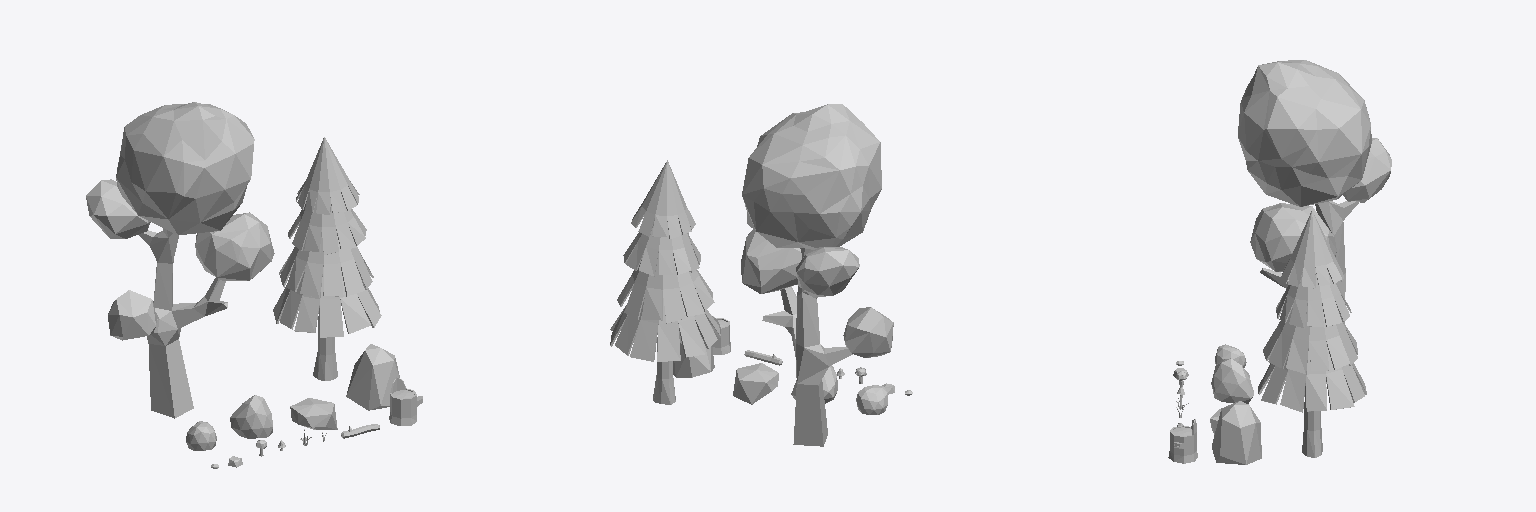
File: nature.obj
The picture shows the model from 3 angles: view 1: azimuth 30°, elevation 25°; view 2: azimuth 150°, elevation 25°; view 3: azimuth 270°, elevation 25°; orthographic projection.
Parts seen in each view (by area): view 1: Tree1 NaturePack, NaturePack Tree2, NaturePack Rock4, NaturePack Bush1, NaturePack Rock1, NaturePack Stump1, NaturePack Bush2; view 2: Tree1 NaturePack, NaturePack Tree2, NaturePack Rock1, NaturePack Rock4, NaturePack Bush2; view 3: Tree1 NaturePack, NaturePack Tree2, NaturePack Rock4, NaturePack Bush1, NaturePack Stump1.
Part boxes in pixels (x1,y1,x2,y2): Tree1 NaturePack: (86, 102, 274, 418); NaturePack Tree2: (273, 137, 381, 380); NaturePack Rock4: (346, 344, 399, 410); NaturePack Bush1: (230, 395, 272, 438); NaturePack Rock1: (290, 398, 337, 429); NaturePack Stump1: (389, 377, 422, 425); NaturePack Bush2: (186, 421, 216, 450); Tree1 NaturePack: (741, 104, 893, 446); NaturePack Tree2: (610, 160, 720, 404); NaturePack Rock1: (733, 363, 778, 404); NaturePack Rock4: (673, 331, 714, 377); NaturePack Bush2: (856, 385, 887, 414); Tree1 NaturePack: (1238, 60, 1391, 383); NaturePack Tree2: (1258, 211, 1366, 457); NaturePack Rock4: (1212, 401, 1261, 464); NaturePack Bush1: (1211, 358, 1253, 403); NaturePack Stump1: (1168, 419, 1197, 463).
Bounding box in the file's own units: 18.92 × 22.24 × 13.63.